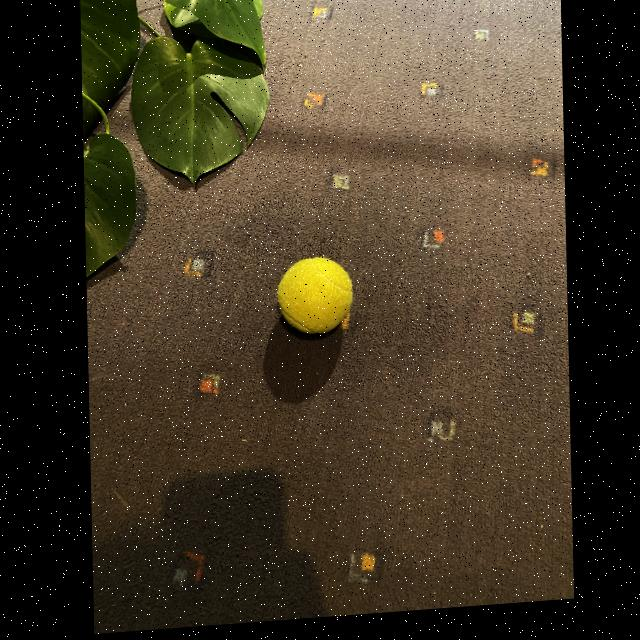Tennisball: (277, 257, 352, 334)
